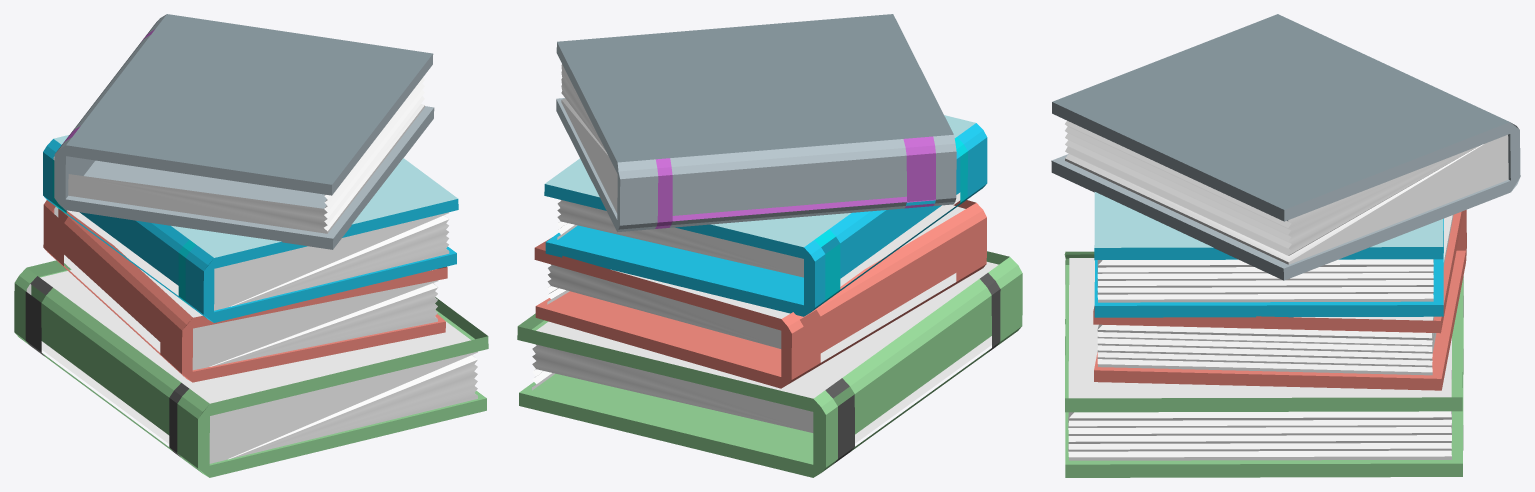
The model's file is biblioteca.glb.
The picture shows the model from 3 angles, left to right: view 1: azimuth 30°, elevation 25°; view 2: azimuth 150°, elevation 25°; view 3: azimuth 270°, elevation 25°; orthographic projection. The views are drawn at different scales.
Visible parts, largest first — view 1: Object_6, Object_5, Object_3, Object_4, Object_11, Object_10, Object_8, Object_7, Object_9; view 2: Object_5, Object_3, Object_6, Object_11, Object_4, Object_10, Object_2, Object_8, Object_7, Object_9; view 3: Object_6, Object_5, Object_3, Object_4, Object_11, Object_10, Object_8.
Part boxes in pixels (x1,y1,x2,y2): Object_6: [26, 78, 477, 463]; Object_5: [66, 14, 432, 184]; Object_3: [14, 260, 488, 477]; Object_4: [54, 14, 434, 249]; Object_11: [43, 200, 447, 382]; Object_10: [43, 139, 458, 322]; Object_8: [54, 135, 457, 257]; Object_7: [25, 276, 189, 457]; Object_9: [52, 159, 195, 304]; Object_5: [557, 14, 953, 162]; Object_3: [517, 251, 1022, 477]; Object_6: [532, 64, 998, 443]; Object_11: [534, 200, 986, 388]; Object_4: [556, 42, 956, 232]; Object_10: [544, 123, 987, 316]; Object_2: [655, 136, 935, 228]; Object_8: [545, 115, 975, 247]; Object_7: [825, 273, 1000, 464]; Object_9: [814, 137, 967, 304]; Object_6: [1065, 120, 1508, 460]; Object_5: [1052, 14, 1509, 209]; Object_3: [1064, 251, 1463, 477]; Object_4: [1051, 102, 1520, 280]; Object_11: [1093, 210, 1466, 390]; Object_10: [1094, 218, 1443, 317]; Object_8: [1094, 192, 1443, 247].
Size of the model in its own units: 0.8628 by 0.5972 by 0.8581.
